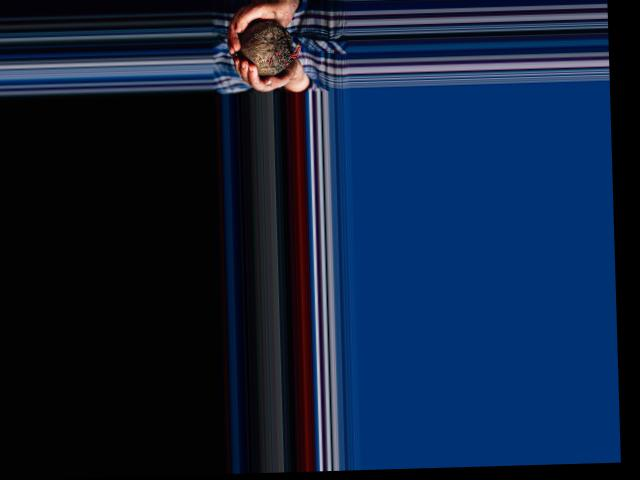beet: (238, 18, 302, 76)
